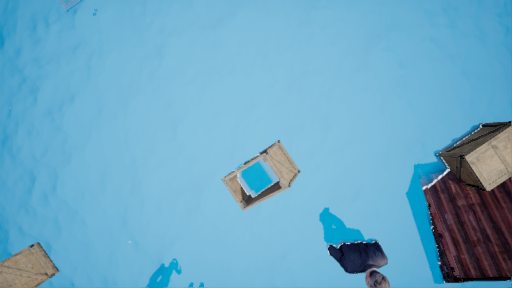person: (312, 207, 392, 288)
